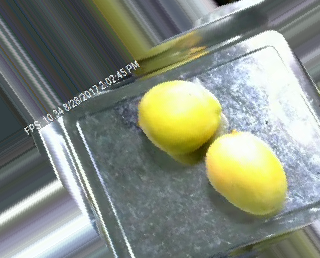Mango: (205, 132, 287, 215), (138, 79, 221, 153)
